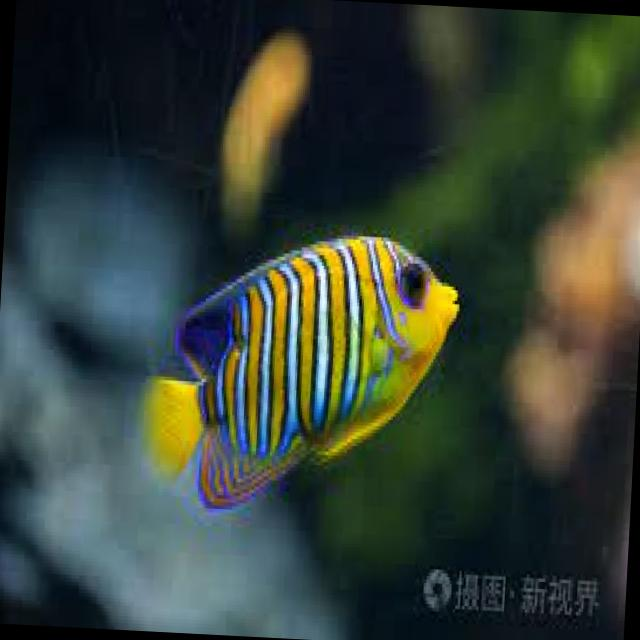AngelFish: (138, 223, 464, 522)
